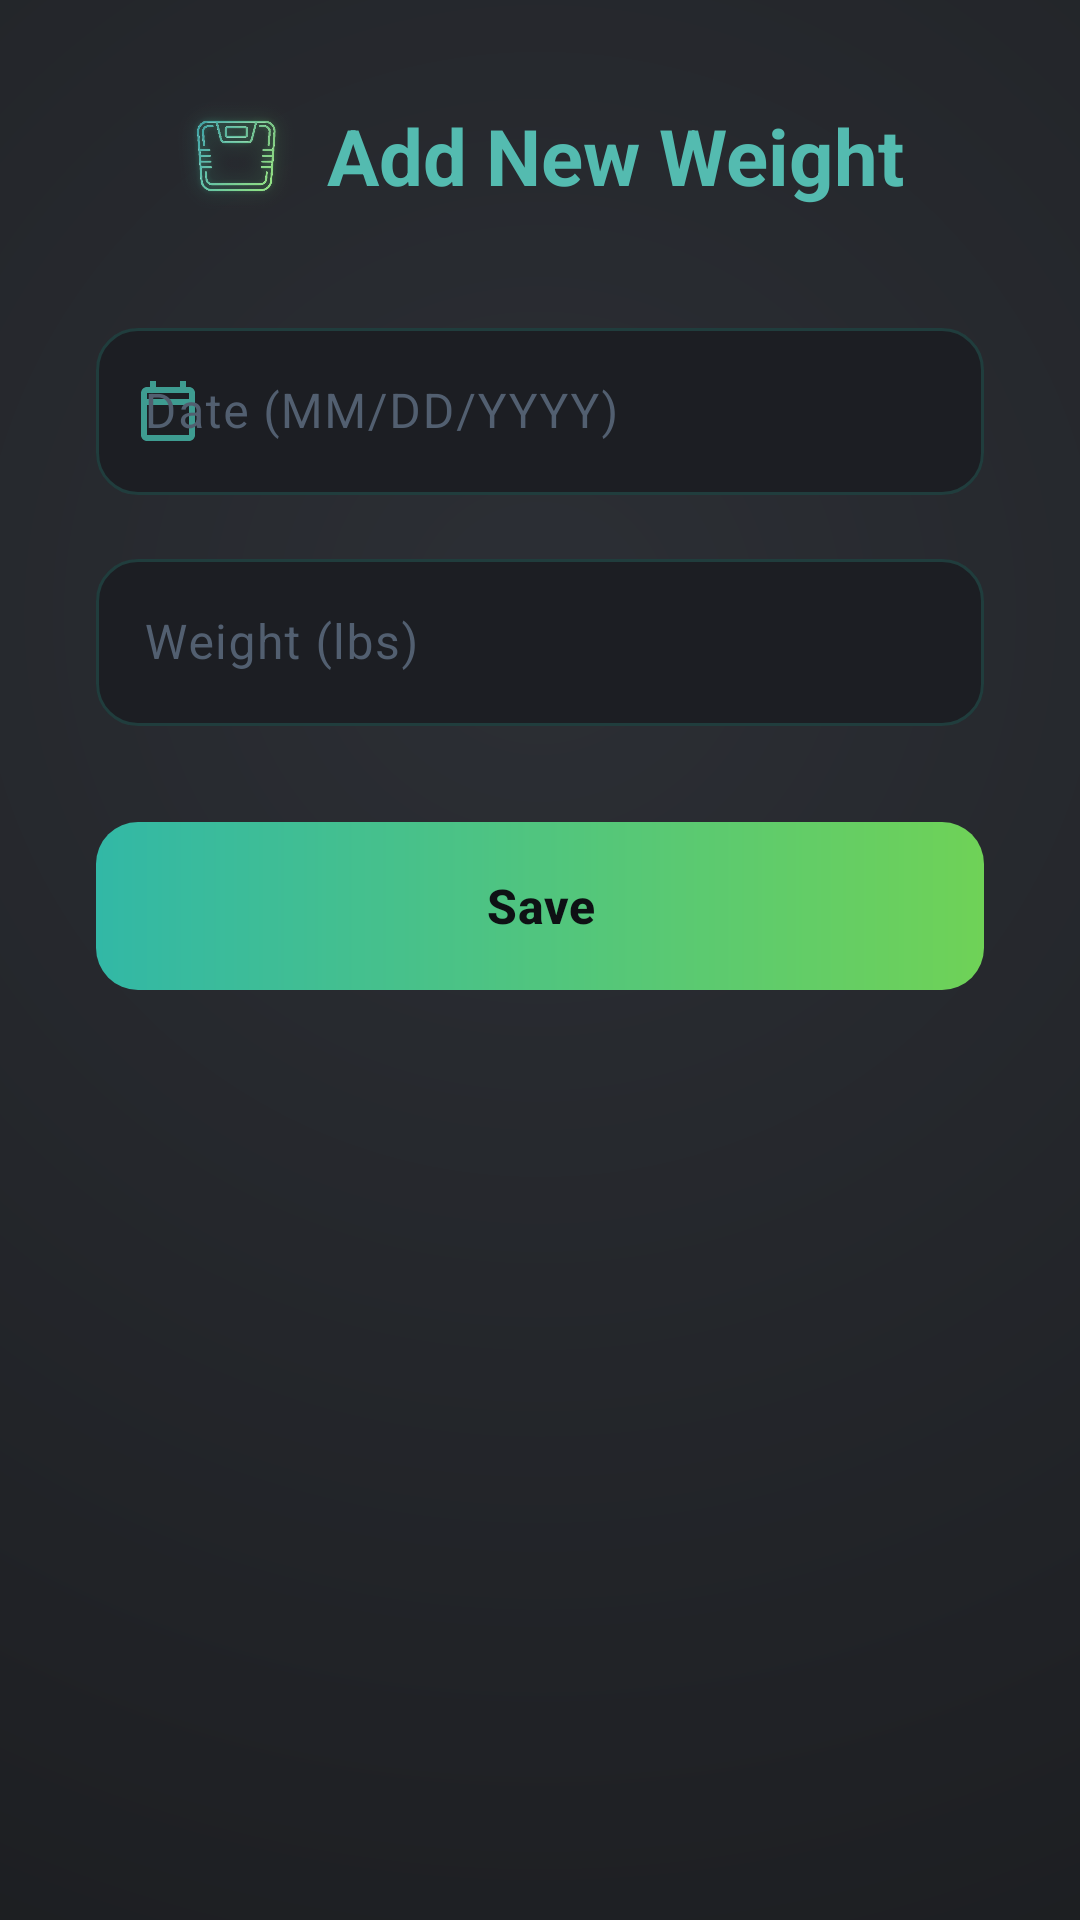

Locate icon controls on the screen. Image size 1080x1920, boxes as [x1,y1,x2,y2].
brand scale glow: [193,116,282,197]
